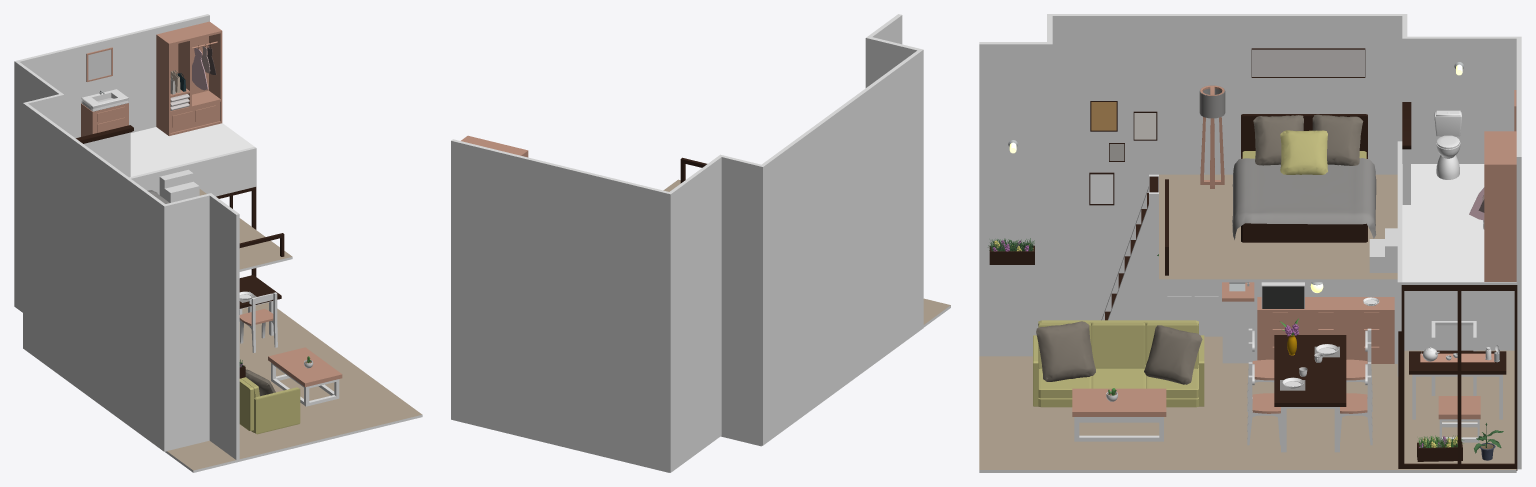
The model's file is android-test.gltf.
3 views of the same model, side by side, from view 1: azimuth 30°, elevation 25°; view 2: azimuth 150°, elevation 25°; view 3: azimuth 270°, elevation 25° (orthographic). The views are drawn at different scales.
Visible parts, largest first — view 1: Sphere_020_6, Sphere_020_2, Cube_065_7, Sphere_020_1, Cube_049, Cube_041_1, Cube_054_2, Sphere_020_5, Sphere_004_2, Cube_041_2, Cube_054_3, Sphere_004_1 (+2 smaller); view 2: Sphere_020_6; view 3: Sphere_020_6, Sphere_020_2, Sphere_020_1, Cube_052_2, Cube_049, Sphere_008_5, Sphere_008_3, Sphere_020_5, Cube_049_1, Cube_065_7, Sphere_004_1, Cube_052_3 (+21 smaller).
Part boxes in pixels (left/top/right/bottom): Sphere_020_6: left=14, top=14, right=422, bottom=472; Sphere_020_2: left=167, top=189, right=421, bottom=470; Cube_065_7: left=156, top=21, right=222, bottom=135; Sphere_020_1: left=130, top=123, right=254, bottom=176; Cube_049: left=239, top=377, right=300, bottom=434; Cube_041_1: left=268, top=347, right=342, bottom=387; Cube_054_2: left=81, top=47, right=128, bottom=136; Sphere_020_5: left=76, top=125, right=284, bottom=276; Sphere_004_2: left=239, top=292, right=277, bottom=352; Cube_041_2: left=271, top=362, right=339, bottom=406; Cube_054_3: left=81, top=89, right=128, bottom=111; Sphere_004_1: left=239, top=275, right=281, bottom=308; Sphere_020_6: left=451, top=14, right=950, bottom=472; Sphere_020_6: left=979, top=14, right=1521, bottom=472; Sphere_020_2: left=979, top=174, right=1516, bottom=469; Sphere_020_1: left=1402, top=164, right=1516, bottom=282; Cube_052_2: left=1232, top=158, right=1376, bottom=239; Cube_049: left=1033, top=320, right=1204, bottom=407; Sphere_008_5: left=1161, top=282, right=1397, bottom=363; Sphere_008_3: left=1222, top=282, right=1394, bottom=363; Sphere_020_5: left=1105, top=102, right=1517, bottom=470; Cube_049_1: left=1036, top=321, right=1202, bottom=384; Cube_065_7: left=1484, top=131, right=1516, bottom=281; Sphere_004_1: left=1274, top=335, right=1346, bottom=406; Cube_052_3: left=1241, top=114, right=1367, bottom=242.
Bounding box in the file's own units: 1.26 × 1.28 × 2.
37 materials, 37 textured.
